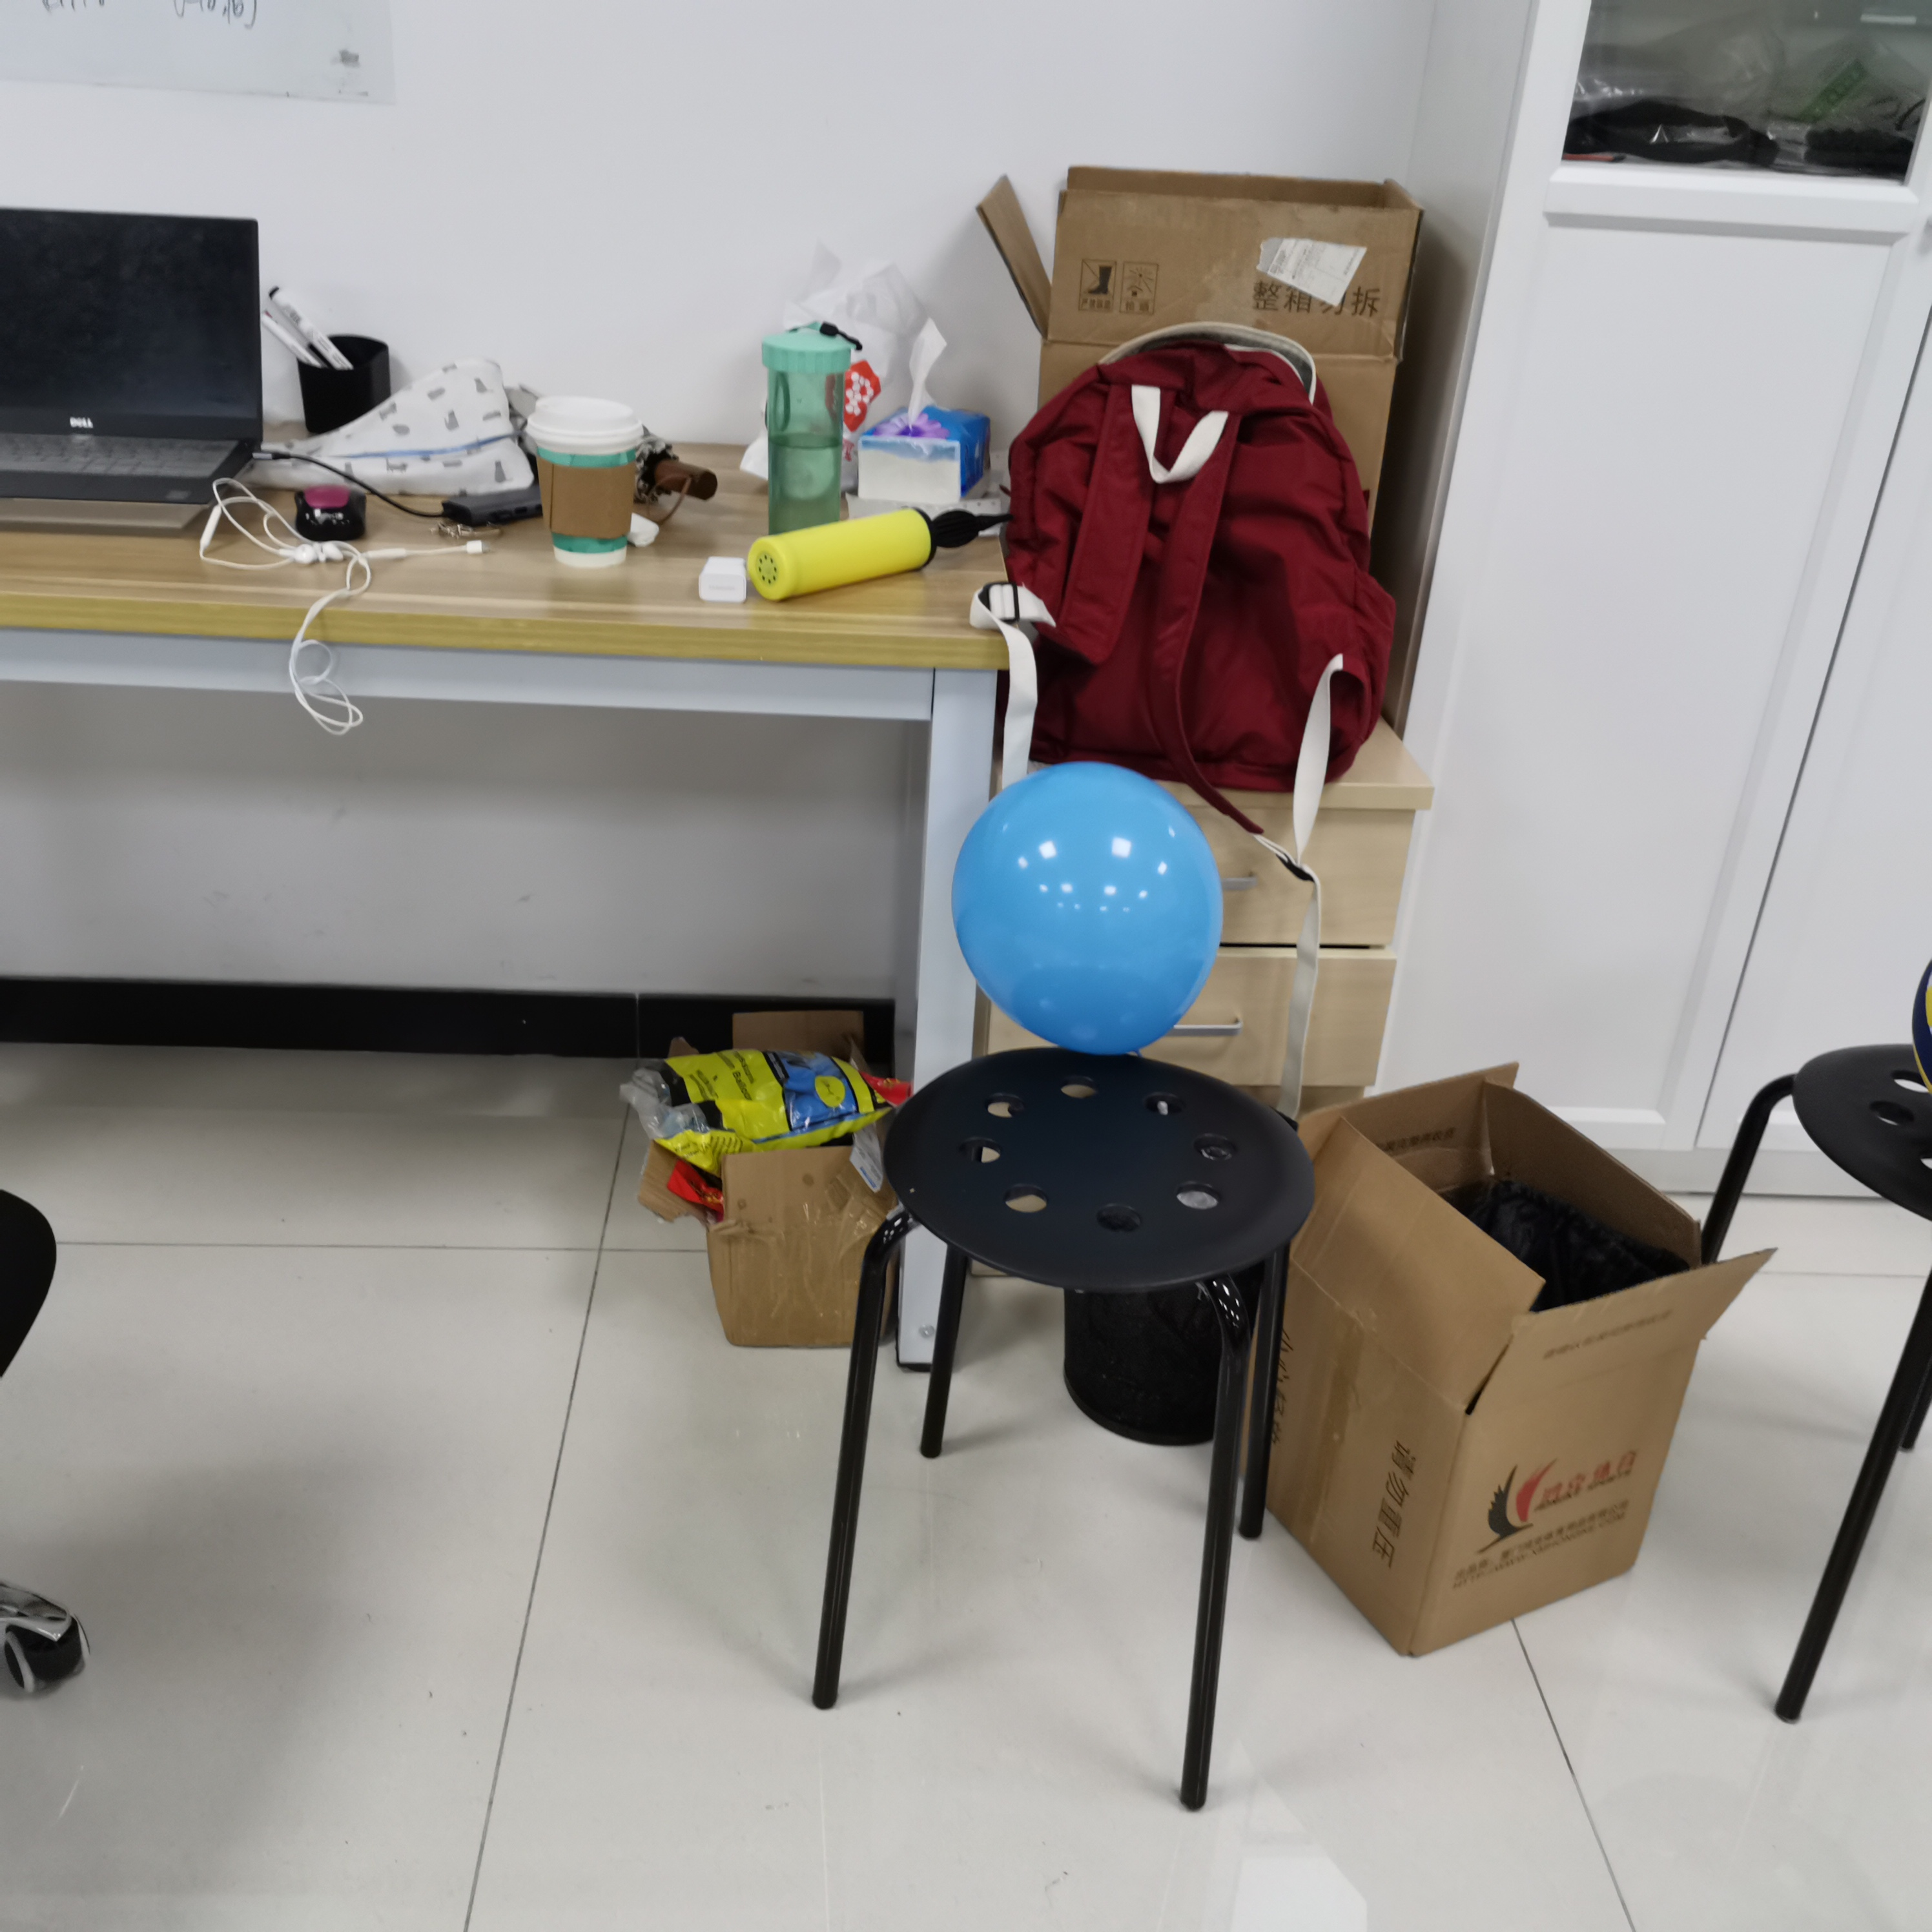balloon: (950, 763, 1226, 1056)
